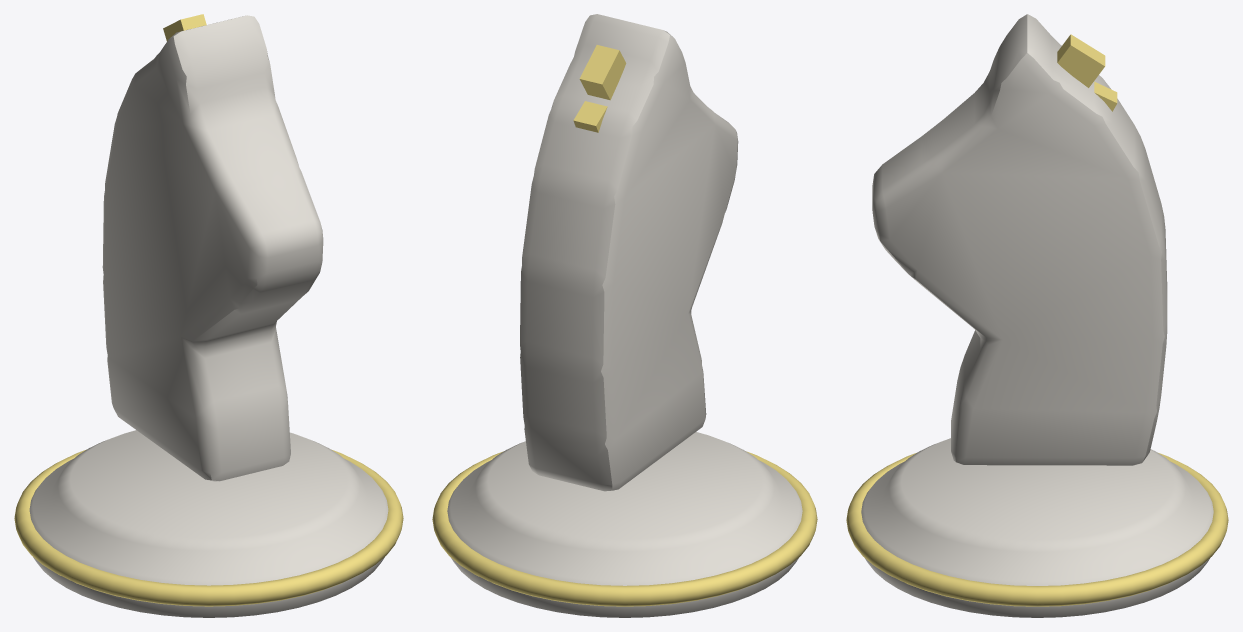
File: Kioto_Caballo.fbx
3 renders of one model, left to right at view 1: azimuth 30°, elevation 25°; view 2: azimuth 150°, elevation 25°; view 3: azimuth 270°, elevation 25°, orthographic.
Parts seen in each view (by area): view 1: Kioto_Caballo; view 2: Kioto_Caballo; view 3: Kioto_Caballo.
Part boxes in pixels (box(x1,y1,x2,y2)): Kioto_Caballo: box(14, 14, 403, 617); Kioto_Caballo: box(432, 14, 817, 617); Kioto_Caballo: box(846, 14, 1228, 617).
Size of the model in its own units: 0.7335 by 1.09 by 0.7335.
